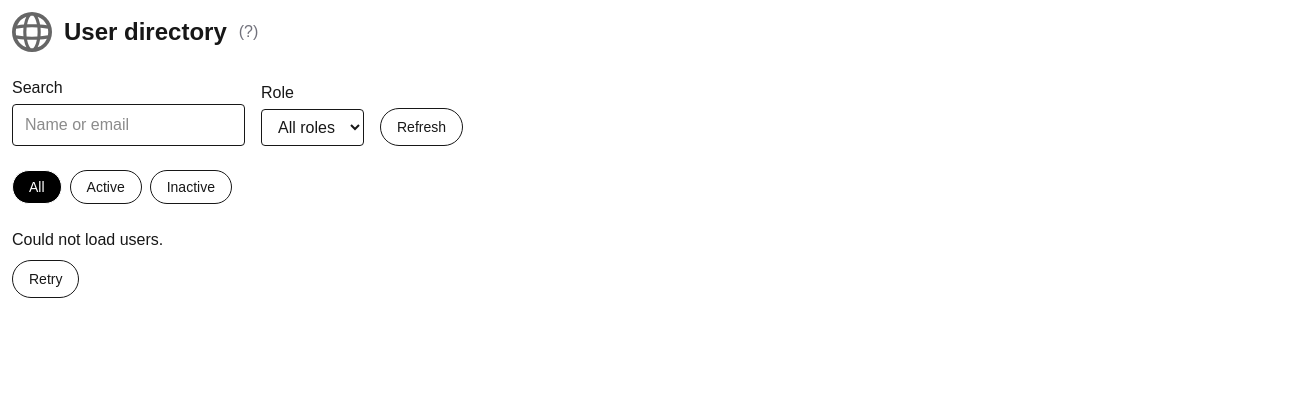
Test case: loading, error and empty states › shows an error with a working retry
Expected: the message shows "Could not load users.", [12,231,163,248]
Click the button "Retry". click: {"x": 46, "y": 279}
box: [12,260,80,298]
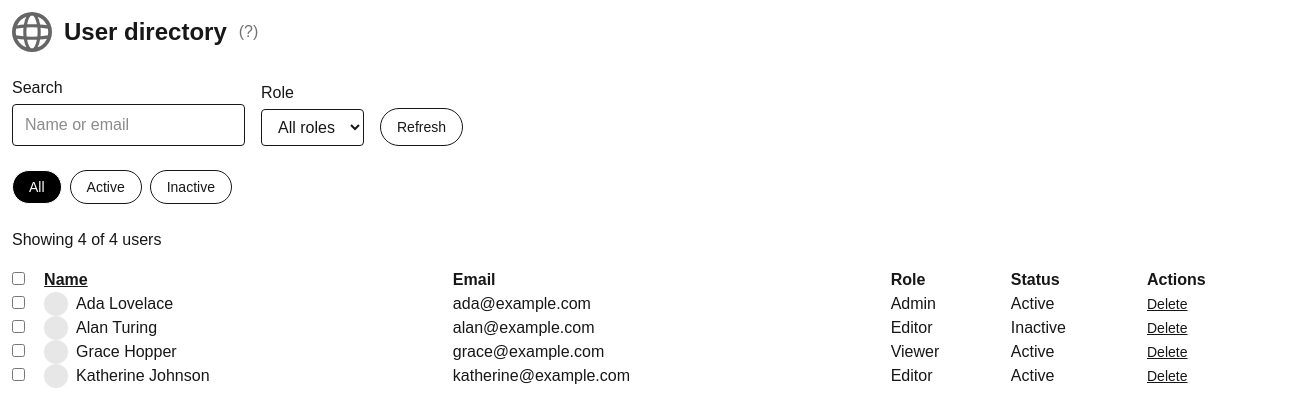
Expected: the table is shown, [12,268,1291,388]
Expected: the message "Could not load users. Retry" is gone
